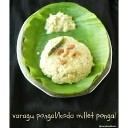venpongal: (40, 37, 95, 83)
